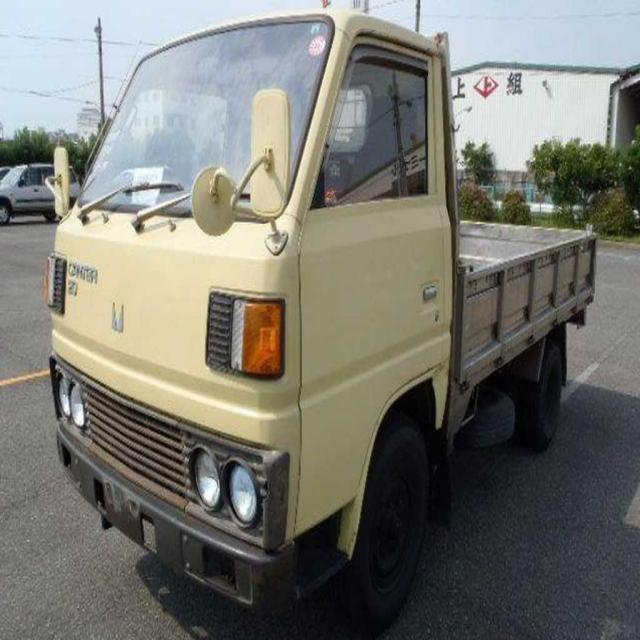Truck: (42, 4, 602, 616)
